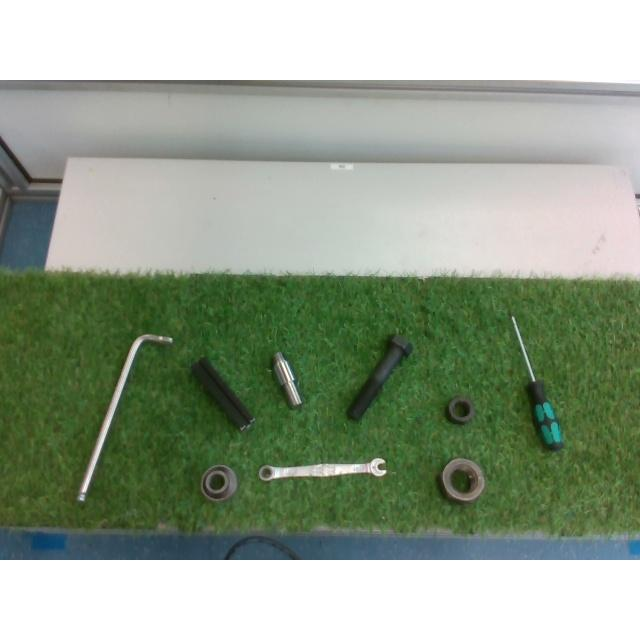AllenKey: (76, 334, 172, 502)
Axis2: (274, 352, 302, 408)
Bearing2: (201, 466, 237, 502)
F20_20_B: (190, 358, 253, 430)
M20: (445, 396, 475, 424)
M20_100: (348, 336, 412, 420)
M30: (439, 458, 485, 502)
Screwdriver: (510, 315, 562, 451)
Wrench: (258, 458, 386, 482)
